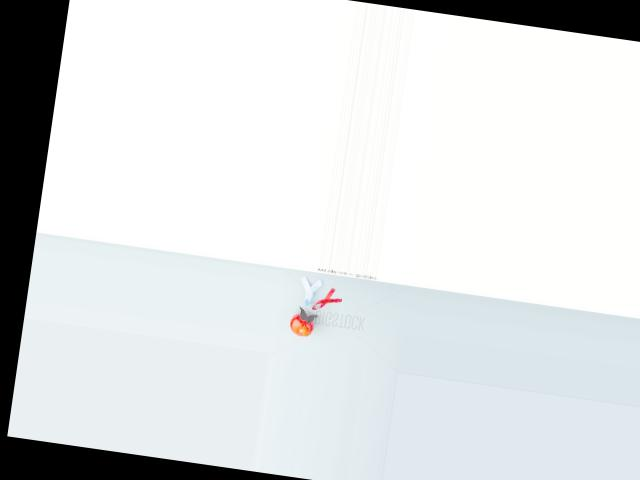tomato: (288, 311, 316, 337)
